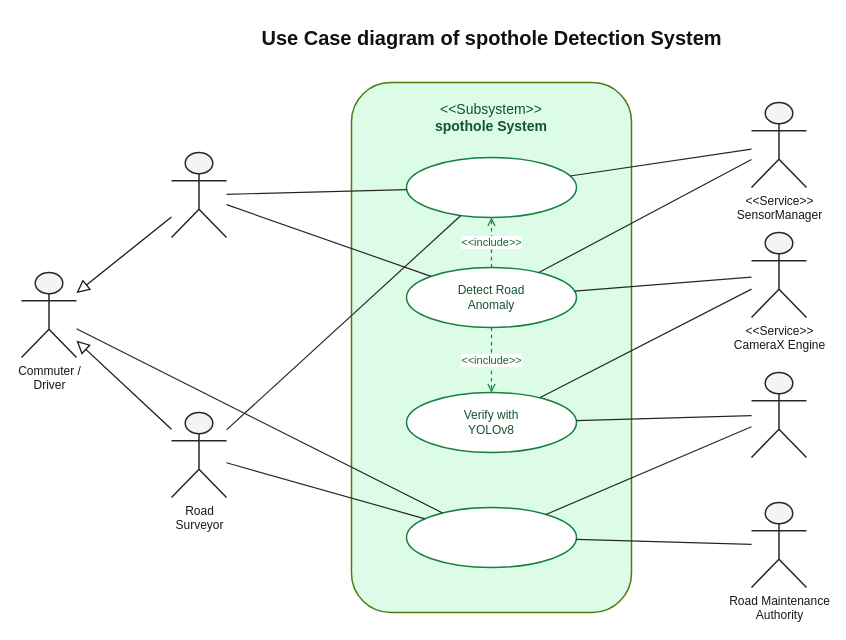
This 846x640 diagram has some shape labels left out. The box of each missing label's shape, as (x1, y1, x2, y2) in pixels:
GPS Location Provider: (750, 371, 807, 458)
Motorcycle Rider: (170, 151, 227, 238)
Record Pothole Event: (405, 506, 577, 568)
Start Road Monitoring: (405, 156, 577, 218)
